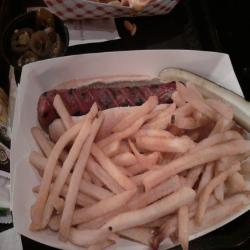fries: (53, 129, 213, 222)
hotdog: (37, 74, 224, 131)
